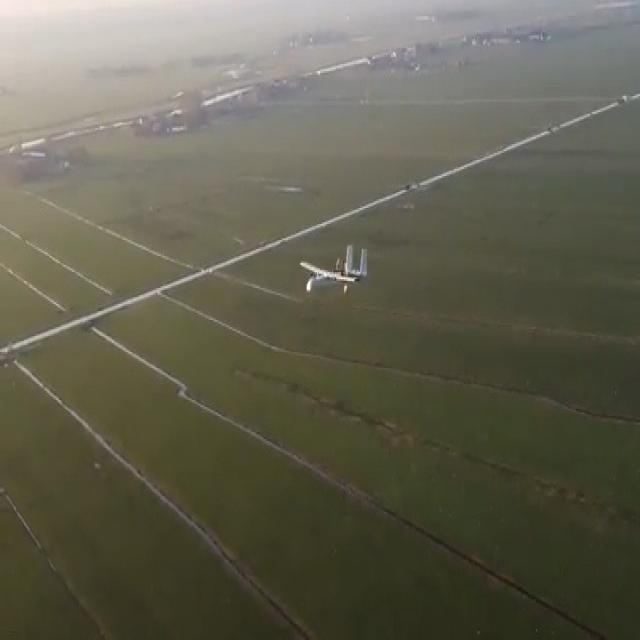iha: (335, 244, 338, 304)
